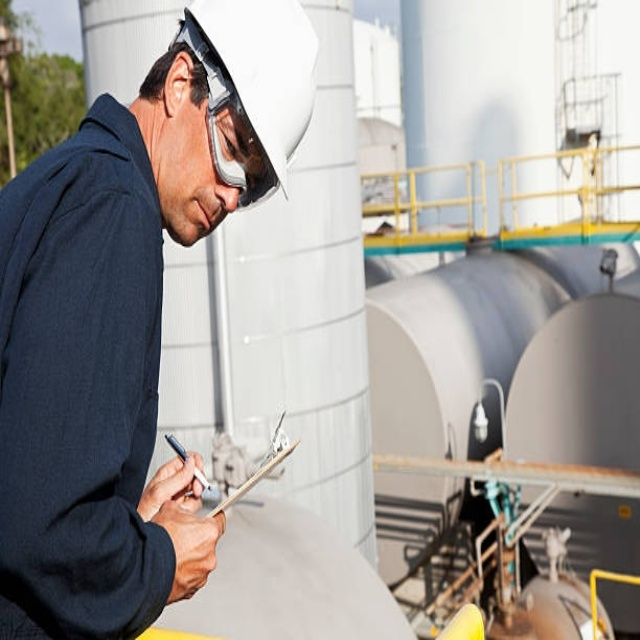Gafas: (171, 10, 280, 209)
Sin_guantes: (152, 496, 232, 605), (138, 445, 209, 522)
Sin_mascara: (173, 187, 223, 248)
